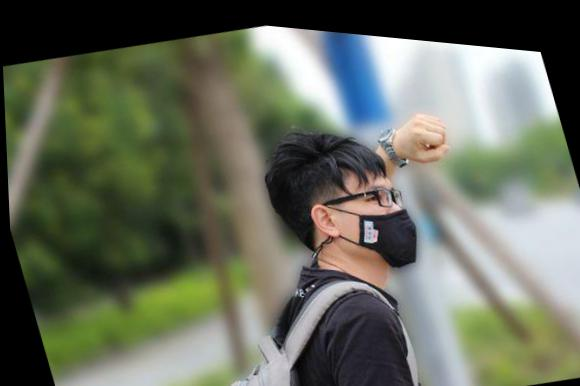WRONG: (328, 166, 428, 277)
